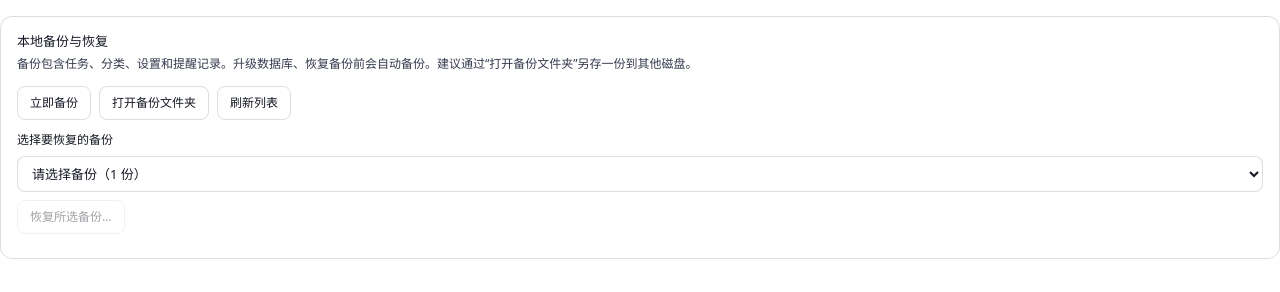
it: 备份失败显示错误，不显示成功
Step 1. Click the button "立即备份" → {"x": 54, "y": 103}, box 17,86 -> 91,120
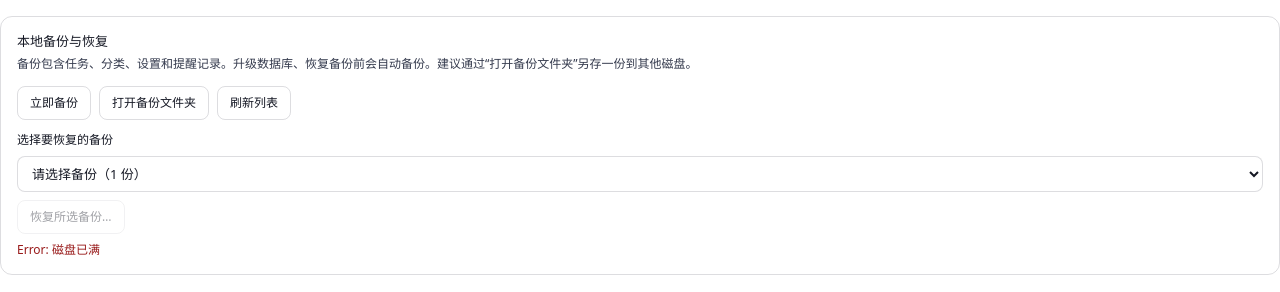
Now the message shows "磁盘已满", box 17,241 -> 100,258
